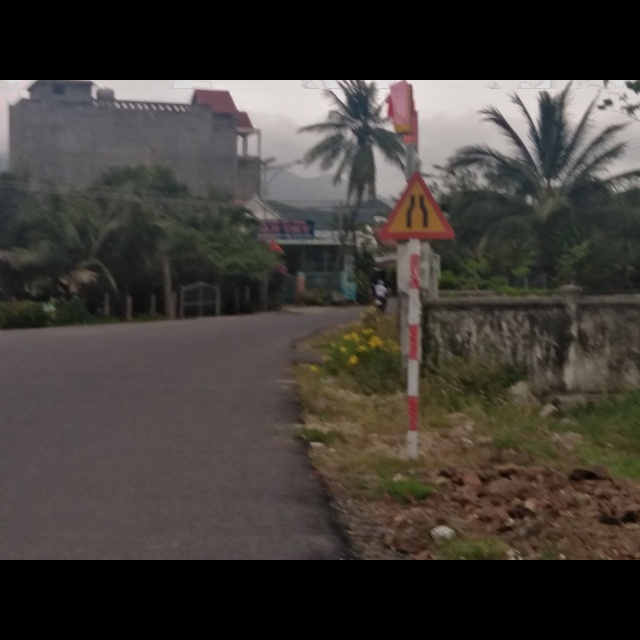Đường bị hẹp cả hai bên: (377, 172, 455, 240)
